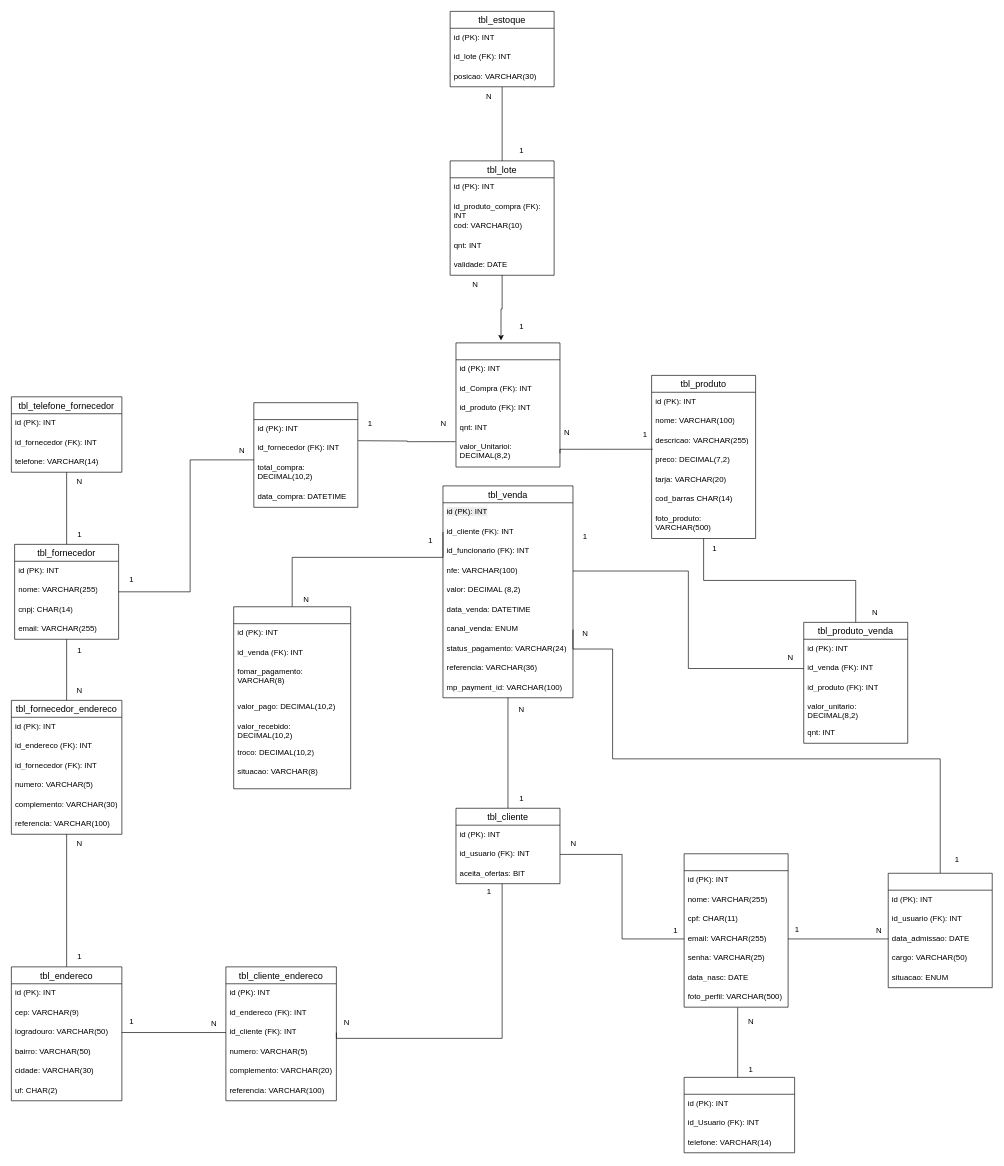
Some shapes in this 1004 by 1166 pixel diagram are drawn without their labels. Each missing label, with the box of its shape:
tbl_compra: (253, 402, 358, 507)
tbl_funcionario: (888, 873, 992, 988)
tbl_pagamento_venda: (233, 606, 351, 789)
tbl_produto_compra: (455, 342, 560, 467)
tbl_telefone_usuario: (683, 1077, 795, 1153)
tbl_usuario: (683, 853, 788, 1007)
